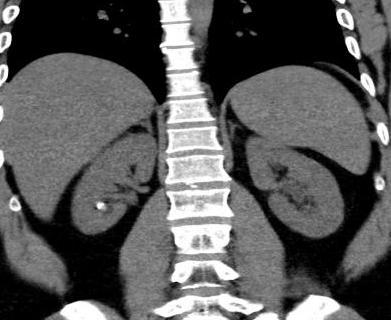Tas_Var: (96, 202, 104, 210)
